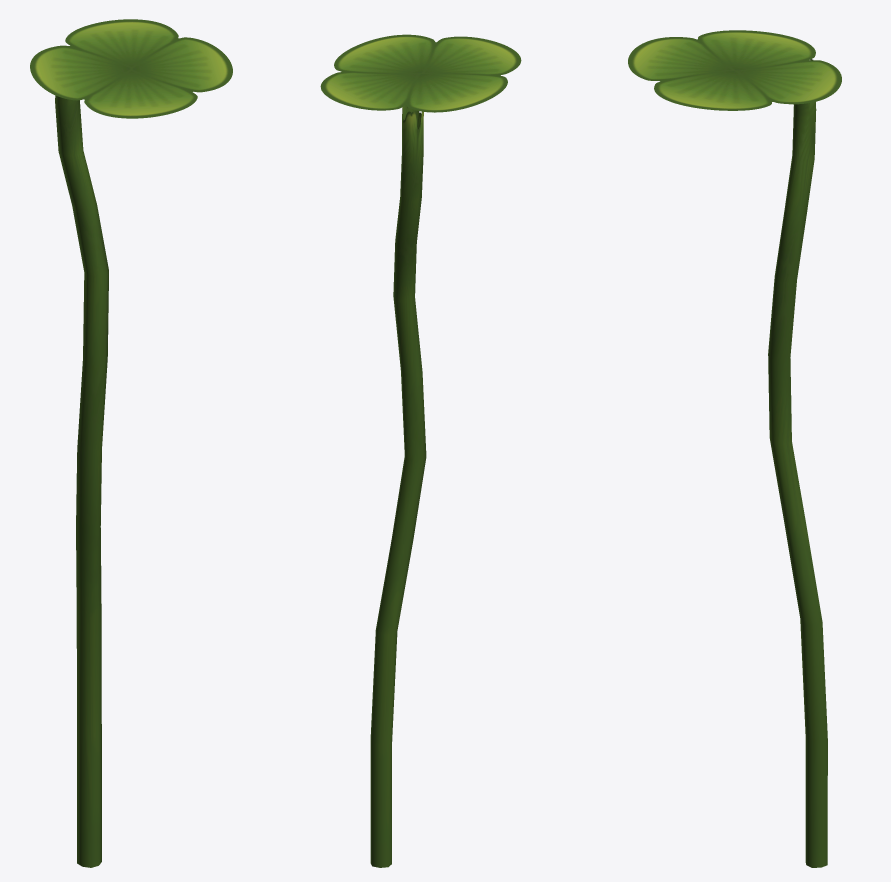
Rendered from LillypadBob.fbx.
3 views of the same model, side by side, from view 1: azimuth 30°, elevation 25°; view 2: azimuth 150°, elevation 25°; view 3: azimuth 270°, elevation 25° (orthographic). The views are drawn at different scales.
Parts seen in each view (by area): view 1: LillypadBase (1), RoofTile; view 2: LillypadBase (1), RoofTile; view 3: LillypadBase (1), RoofTile.
Part boxes in pixels (x1,y1,x2,y2): LillypadBase (1): (55,95,108,867); RoofTile: (30,19,232,118); LillypadBase (1): (370,105,426,867); RoofTile: (320,34,521,112); LillypadBase (1): (768,59,827,867); RoofTile: (628,30,841,110).
Bounding box in the file's own units: 0.687 × 2.24 × 0.7274.
